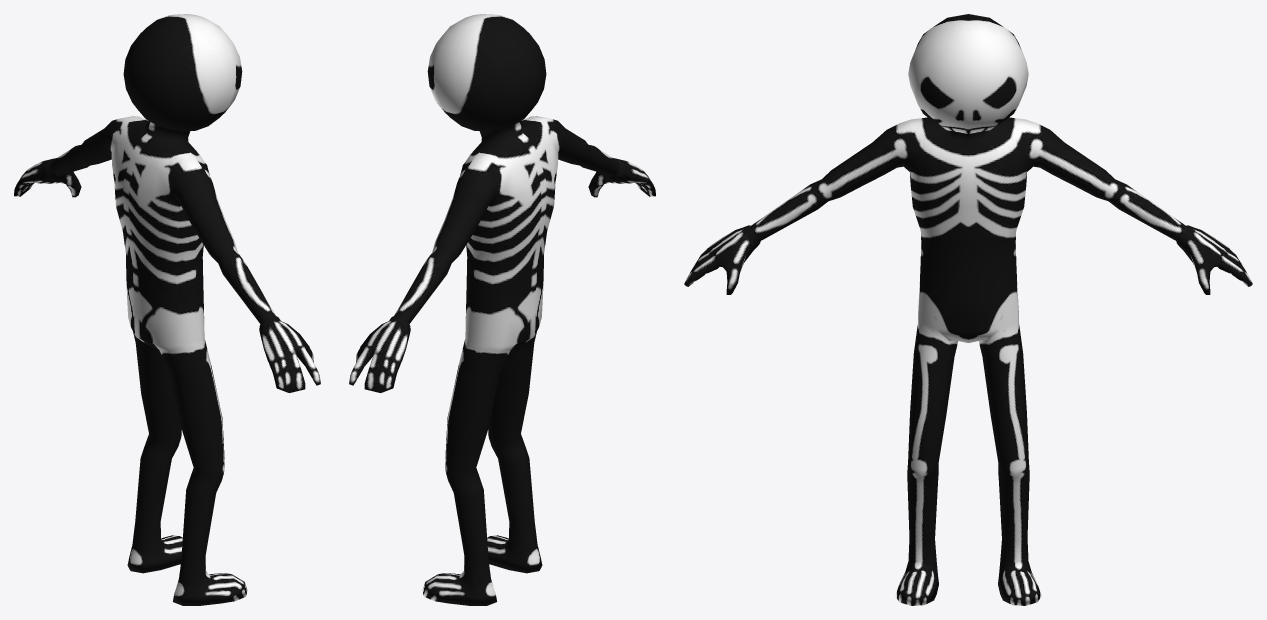
Rendered from fantasia_esqueleto.glb.
3 views of the same model, side by side, from view 1: azimuth 30°, elevation 25°; view 2: azimuth 150°, elevation 25°; view 3: azimuth 270°, elevation 25° (orthographic).
Visible parts, largest first — view 1: mesh_char_134; view 2: mesh_char_134; view 3: mesh_char_134.
Boxes of the visible parts, box(x1,y1,x2,y2) form: mesh_char_134: box(14, 14, 320, 605); mesh_char_134: box(349, 14, 655, 605); mesh_char_134: box(684, 14, 1252, 605).
Bounding box in the file's own units: 0.9892 × 4.86 × 4.4.
1 material, 1 textured.
